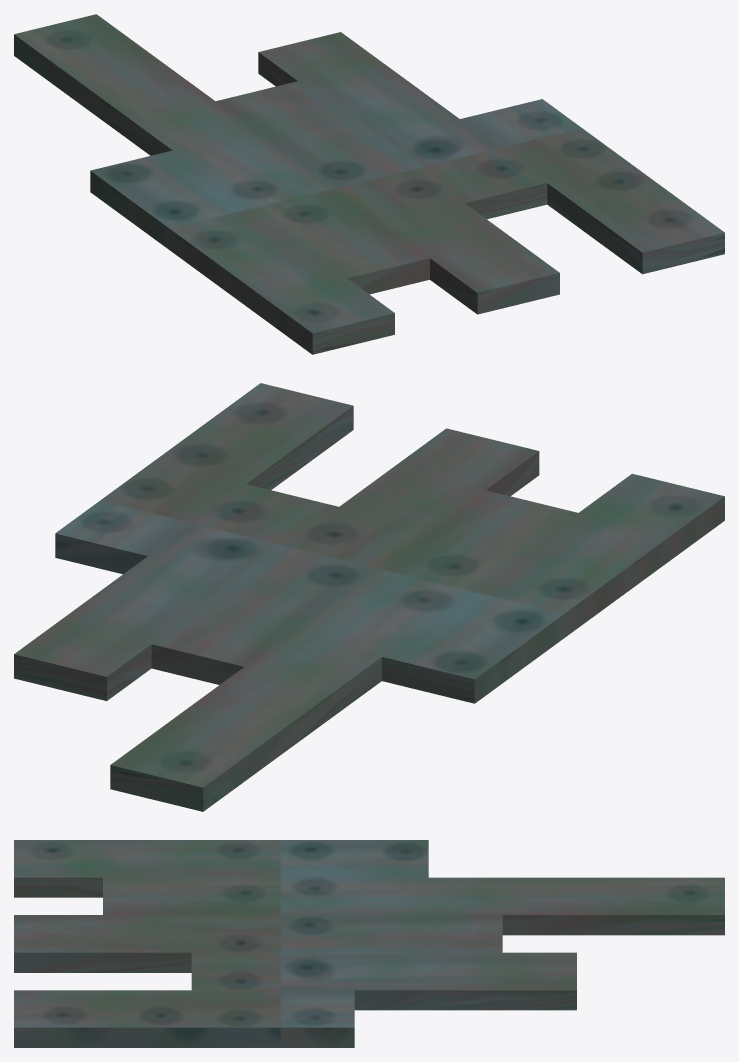
File: Metal Scraps.fbx
3 views of the same model, one above another, from view 1: azimuth 30°, elevation 25°; view 2: azimuth 150°, elevation 25°; view 3: azimuth 270°, elevation 25° (orthographic). The views are drawn at different scales.
Parts seen in each view (by area): view 1: Cube; view 2: Cube; view 3: Cube.
Part boxes in pixels (box(x1,y1,x2,y2)): Cube: box(14, 14, 724, 354); Cube: box(14, 383, 724, 811); Cube: box(14, 840, 724, 1047).
Bounding box in the file's own units: 10 × 16 × 0.5.
